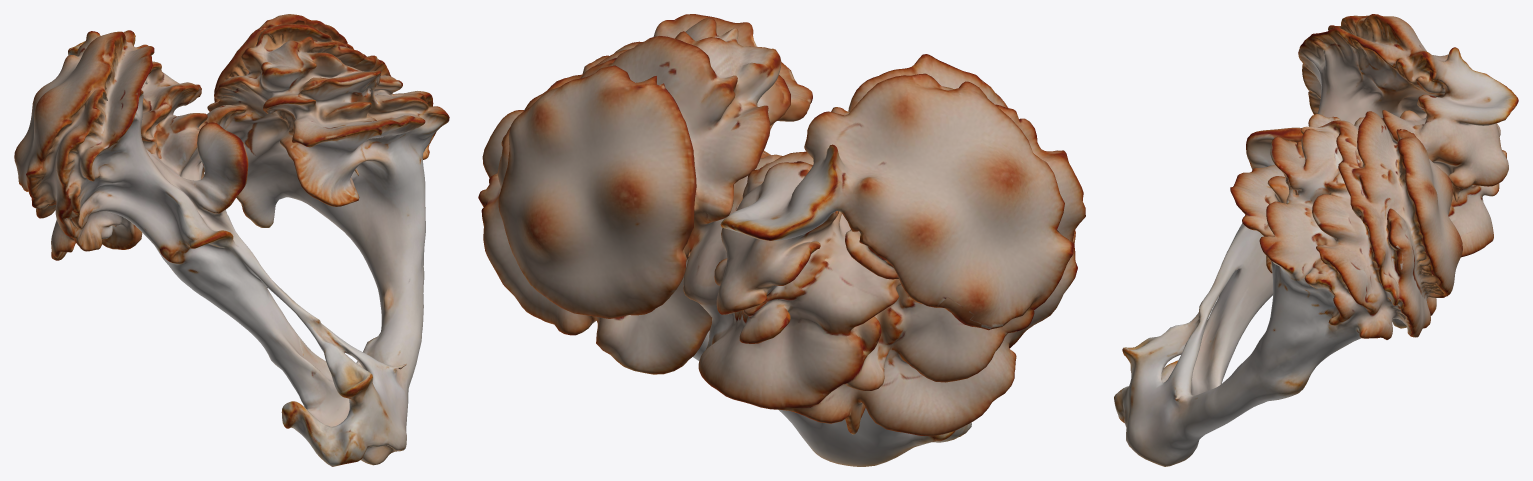
Rendered from category-1.glb.
3 renders of one model, left to right at view 1: azimuth 30°, elevation 25°; view 2: azimuth 150°, elevation 25°; view 3: azimuth 270°, elevation 25°, orthographic. The views are drawn at different scales.
Parts seen in each view (by area): view 1: tripo_node_b78e1853; view 2: tripo_node_b78e1853; view 3: tripo_node_b78e1853.
Boxes of the visible parts, left/top/right/bottom form: tripo_node_b78e1853: left=14, top=14, right=449, bottom=466; tripo_node_b78e1853: left=478, top=14, right=1085, bottom=466; tripo_node_b78e1853: left=1114, top=14, right=1518, bottom=466.
Bounding box in the file's own units: 0.9678 × 0.8573 × 0.8515.
Materials: 1 (1 with a texture image).
